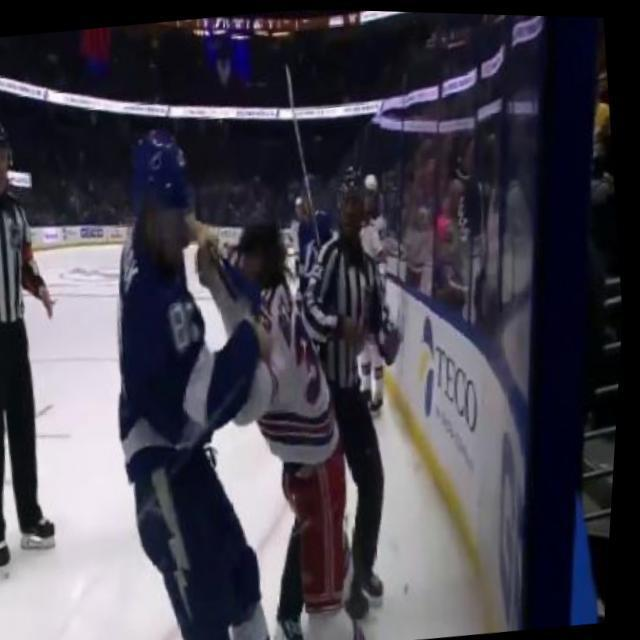fight: (63, 101, 410, 640)
